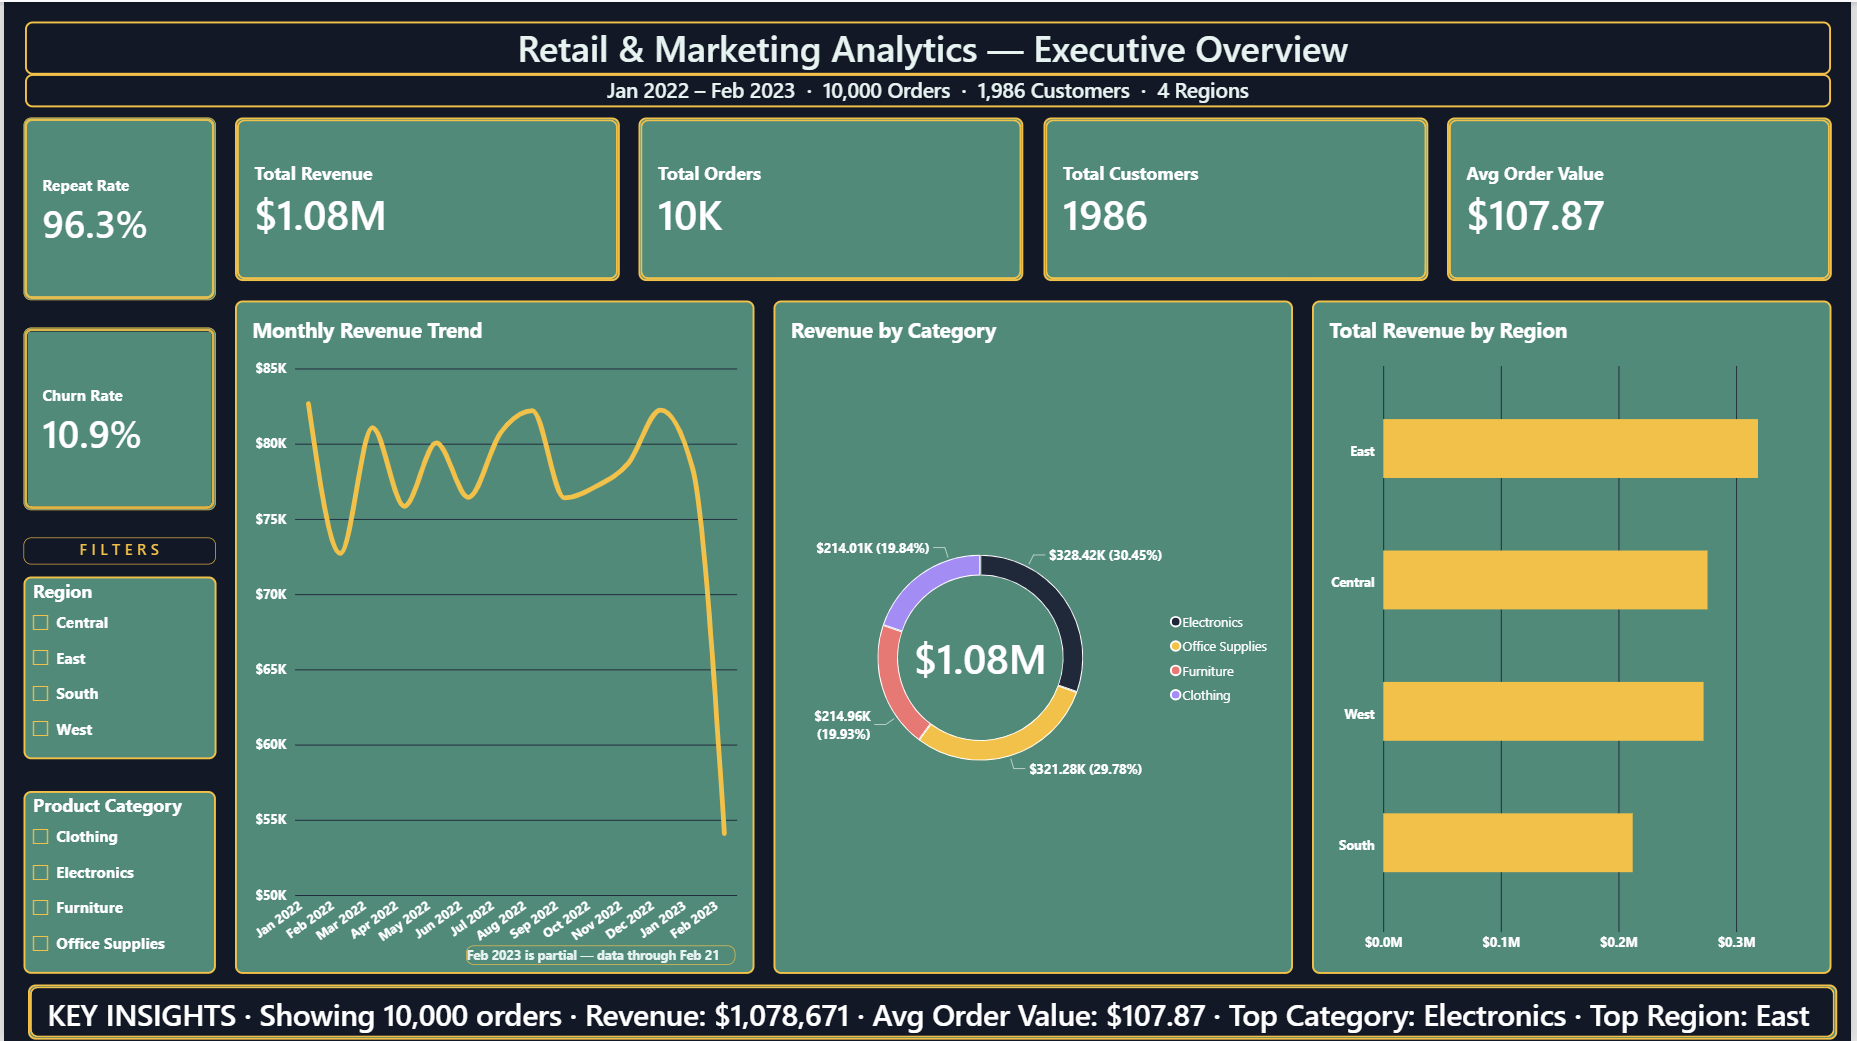

The dashboard page shown, as its layout file describes it:
{"tool":"powerbi","page":{"name":"Executive Overview","canvas":[1920,1080],"ordinal":0},"visuals":[{"type":"cardVisual","fields":{"Data":["cleaned_retail_sales.Total Revenue"]},"box":[240,120,400,170],"z":0},{"type":"cardVisual","fields":{"Data":["cleaned_retail_sales.Avg Order Value"]},"box":[1500,120,400,170],"z":1000},{"type":"cardVisual","fields":{"Data":["cleaned_retail_sales.Total Customers"]},"box":[1080,120,400,170],"z":2000},{"type":"cardVisual","fields":{"Data":["cleaned_retail_sales.Total Orders"]},"box":[660,120,400,170],"z":3000},{"type":"lineChart","title":"Monthly Revenue Trend","fields":{"Y":["cleaned_retail_sales.Total Revenue"],"Category":["cleaned_retail_sales.Order_Month_Label"]},"box":[240,310,540,700],"z":4000},{"type":"donutChart","title":"Revenue by Category","fields":{"Category":["cleaned_retail_sales.Product_Category"],"Y":["cleaned_retail_sales.Total Revenue"]},"box":[800,310,540,700],"z":5000},{"type":"clusteredBarChart","fields":{"Category":["cleaned_retail_sales.Region"],"Y":["cleaned_retail_sales.Total Revenue"]},"box":[1360,310,540,700],"z":6000},{"type":"textbox","box":[20.9,556.2,199.9,27.8],"z":7000},{"type":"slicer","fields":{"Values":["cleaned_retail_sales.Region"]},"box":[20.9,597.9,200.6,190],"z":8000},{"type":"slicer","fields":{"Values":["cleaned_retail_sales.Product_Category"]},"box":[20.9,820.4,200,190],"z":9000},{"type":"textbox","box":[22.6,20.9,1877.1,55],"z":10000},{"type":"textbox","box":[22.6,74.7,1877.1,34.8],"z":11000},{"type":"cardVisual","fields":{"Data":["cleaned_retail_sales.Repeat Rate"]},"box":[20.9,119.9,200,190],"z":12000},{"type":"cardVisual","fields":{"Data":["cleaned_retail_sales.Churn Rate"]},"box":[20.9,338.9,200,190],"z":13000},{"type":"cardVisual","fields":{"Data":["cleaned_retail_sales.Dynamic Overview Insight"]},"box":[24.3,1022,1880.6,57.4],"z":14000},{"type":"textbox","box":[480,980,280,20],"z":15000}]}

Visuals, with their boxes in screenshot pixels (x1, y1, x2, y2), scaled from the page's 1920x1080 canvas onto the 1857x1041 screenshot:
cardVisual - cleaned_retail_sales.Total Revenue: (x1=232, y1=116, x2=619, y2=280)
cardVisual - cleaned_retail_sales.Avg Order Value: (x1=1451, y1=116, x2=1838, y2=280)
cardVisual - cleaned_retail_sales.Total Customers: (x1=1045, y1=116, x2=1431, y2=280)
cardVisual - cleaned_retail_sales.Total Orders: (x1=638, y1=116, x2=1025, y2=280)
"Monthly Revenue Trend" lineChart: (x1=232, y1=299, x2=754, y2=974)
"Revenue by Category" donutChart: (x1=774, y1=299, x2=1296, y2=974)
clusteredBarChart - cleaned_retail_sales.Region x cleaned_retail_sales.Total Revenue: (x1=1315, y1=299, x2=1838, y2=974)
textbox: (x1=20, y1=536, x2=214, y2=563)
slicer - cleaned_retail_sales.Region: (x1=20, y1=576, x2=214, y2=759)
slicer - cleaned_retail_sales.Product_Category: (x1=20, y1=791, x2=214, y2=974)
textbox: (x1=22, y1=20, x2=1837, y2=73)
textbox: (x1=22, y1=72, x2=1837, y2=106)
cardVisual - cleaned_retail_sales.Repeat Rate: (x1=20, y1=116, x2=214, y2=299)
cardVisual - cleaned_retail_sales.Churn Rate: (x1=20, y1=327, x2=214, y2=510)
cardVisual - cleaned_retail_sales.Dynamic Overview Insight: (x1=24, y1=985, x2=1842, y2=1040)
textbox: (x1=464, y1=945, x2=735, y2=964)
